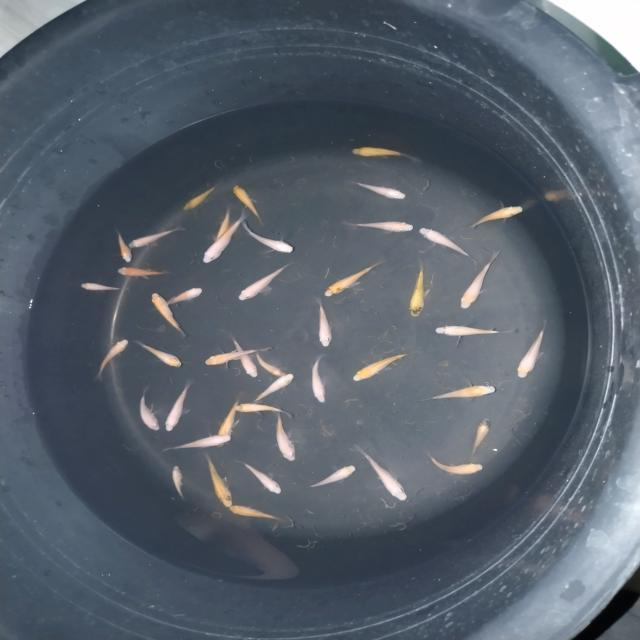nila: (356, 446, 414, 506), (226, 262, 296, 306), (456, 247, 502, 312), (200, 210, 250, 266), (350, 348, 426, 384), (321, 256, 384, 299), (146, 290, 192, 340), (418, 225, 478, 262), (516, 320, 550, 383), (422, 445, 488, 477), (344, 142, 422, 169), (232, 459, 288, 495), (242, 220, 298, 256), (420, 379, 500, 404), (202, 450, 235, 510), (462, 202, 526, 232), (198, 344, 274, 368), (224, 332, 260, 382), (162, 382, 194, 438), (231, 182, 269, 228), (249, 369, 295, 407), (270, 408, 300, 466), (296, 462, 358, 490), (432, 323, 521, 341), (404, 263, 431, 322), (212, 397, 242, 450), (176, 180, 221, 215), (150, 287, 208, 314), (350, 179, 418, 202), (304, 354, 334, 406), (154, 434, 234, 453), (128, 224, 184, 250), (136, 341, 184, 371), (95, 338, 126, 382), (342, 218, 417, 236), (315, 296, 337, 350), (231, 401, 296, 419), (252, 350, 290, 379), (468, 416, 494, 458), (138, 388, 162, 433), (228, 504, 285, 522), (108, 228, 136, 264), (76, 278, 130, 295), (212, 206, 236, 242), (112, 266, 172, 278), (172, 463, 187, 502)
